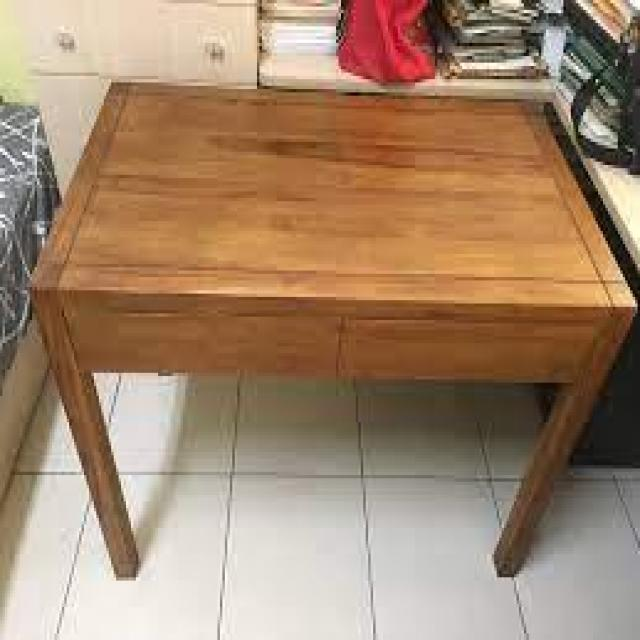table: (25, 43, 632, 600)
